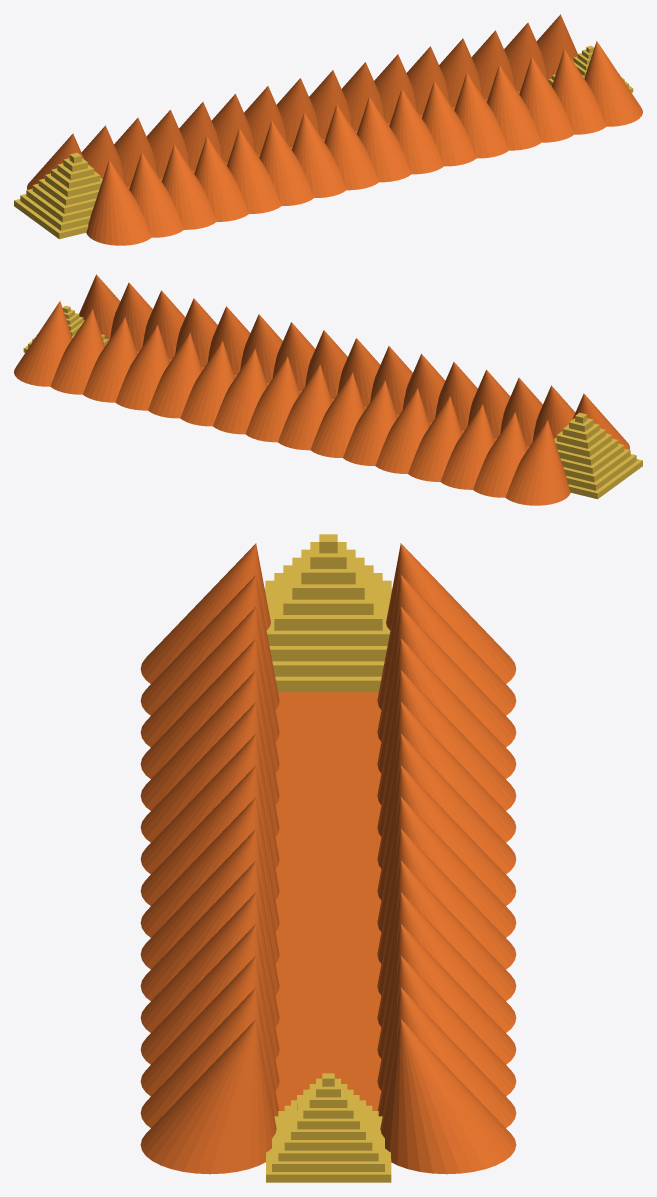
File: lvl2.fbx
3 renders of one model, top to bottom at view 1: azimuth 30°, elevation 25°; view 2: azimuth 150°, elevation 25°; view 3: azimuth 270°, elevation 25°, orthographic. The views are drawn at different scales.
Visible parts, largest first — view 1: Cone, Pyramid.001, Pyramid; view 2: Cone, Pyramid.001, Pyramid; view 3: Cone, Plane, Pyramid.001, Pyramid.
Boxes of the visible parts, x1,y1,x2,y2 form: Cone: (27, 14, 642, 245); Pyramid.001: (14, 152, 102, 239); Pyramid: (548, 45, 633, 92); Cone: (14, 274, 629, 505); Pyramid.001: (554, 412, 642, 499); Pyramid: (23, 305, 108, 352); Cone: (140, 543, 516, 1174); Plane: (275, 692, 381, 1110); Pyramid.001: (264, 534, 392, 692); Pyramid: (266, 1073, 391, 1182).
Bounding box in the file's own units: 28569 × 2960 × 7999.
